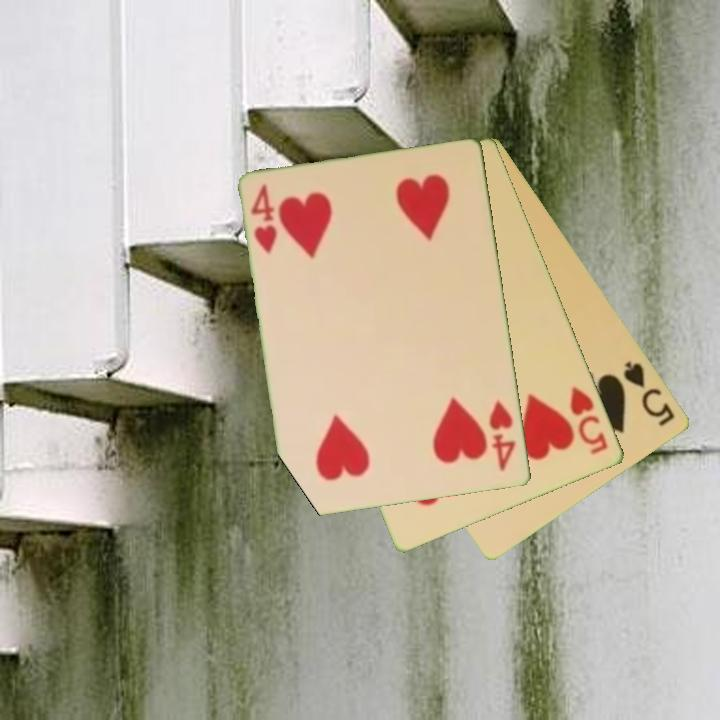4h: (486, 397, 519, 475), (248, 181, 281, 258)
5h: (566, 382, 611, 458)
5s: (620, 357, 679, 429)
